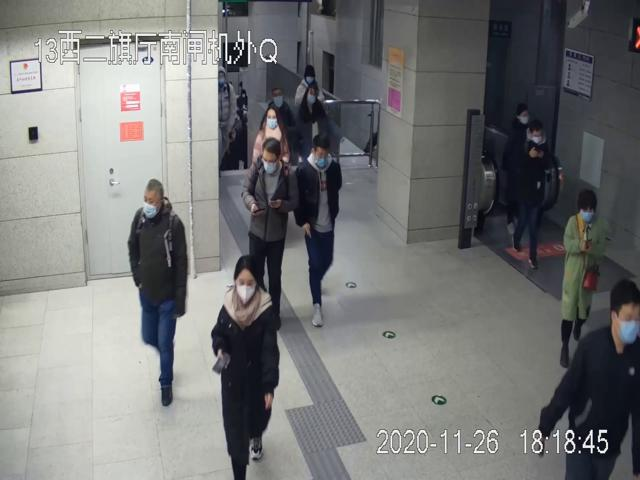person: (211, 254, 281, 480), (128, 178, 187, 405), (241, 139, 298, 328), (293, 130, 343, 327), (558, 186, 606, 362)
